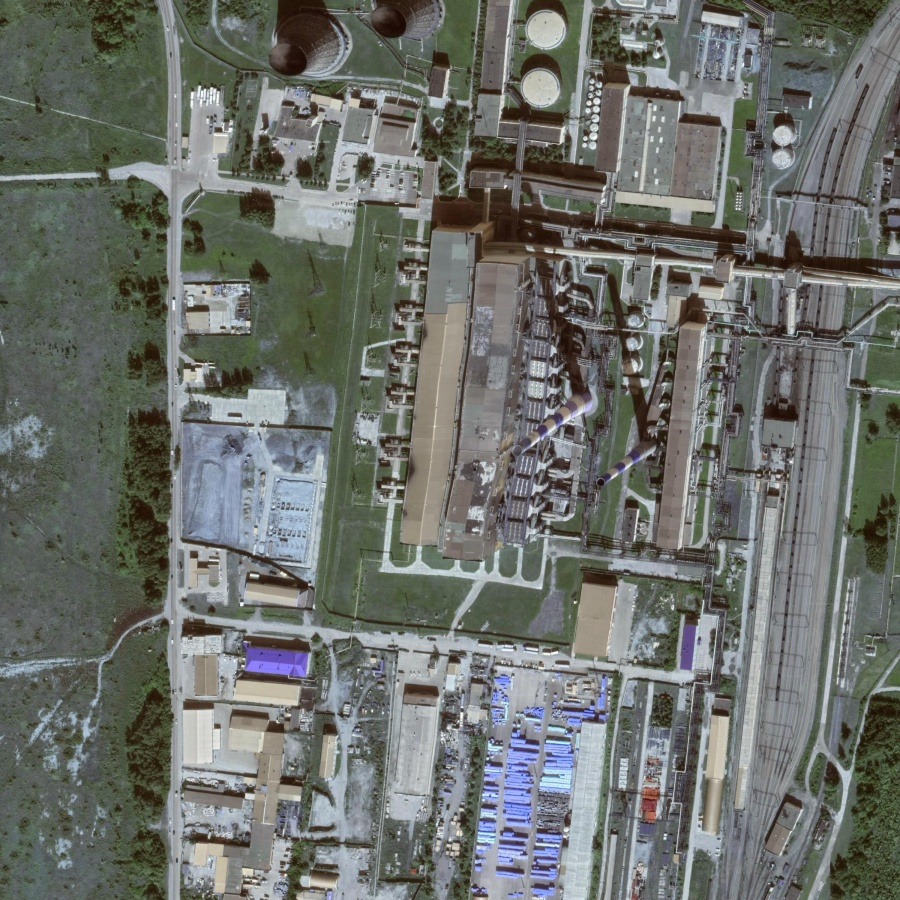PowerPlant: (482, 189, 735, 517)
